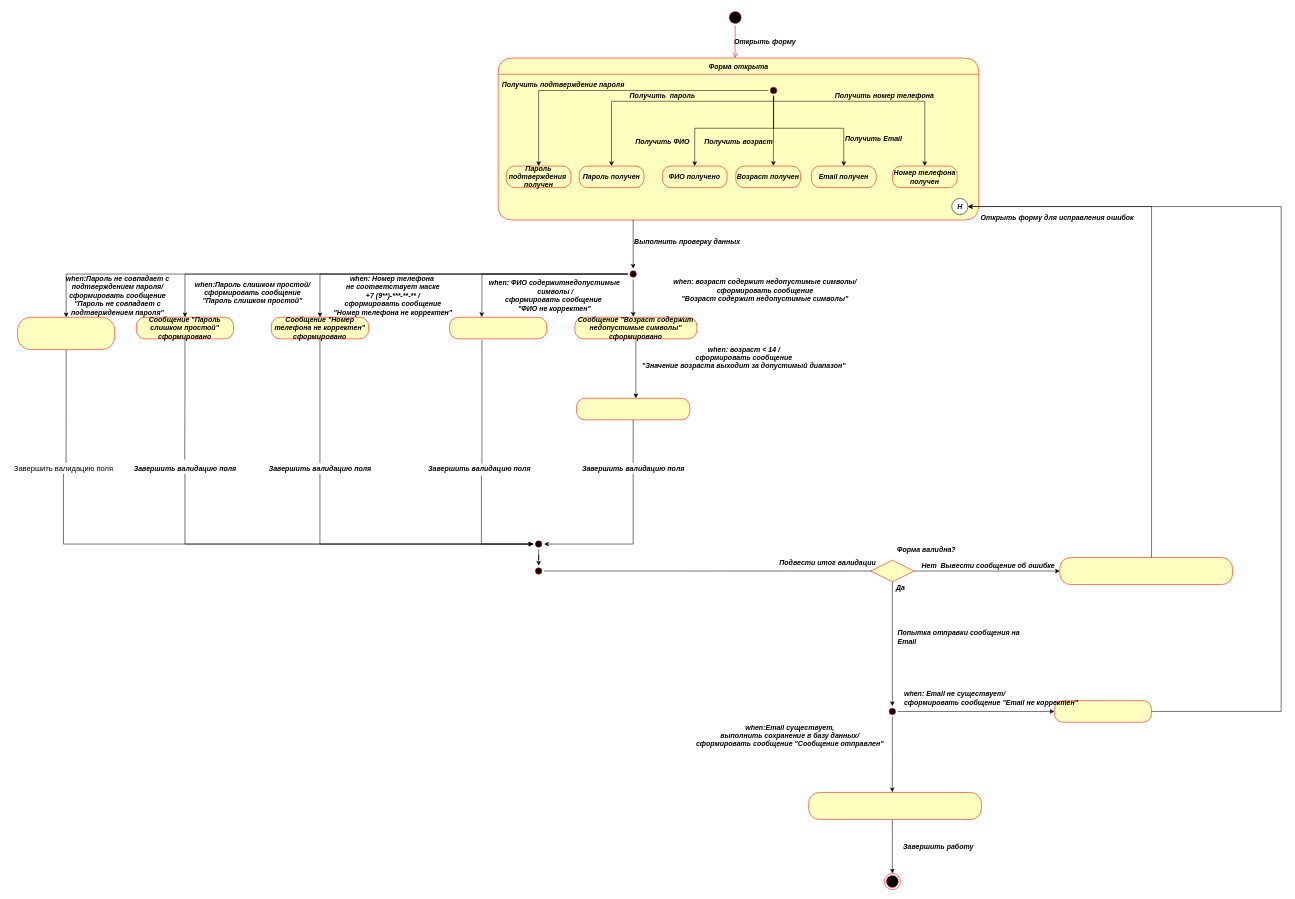
The diagram is 1295 pixels wide and 899 high, and some of its shapes have lost their labels. The shapes that lost their labels are listed below. From the top down, each one's centre as x and y in pixels, then its label:
point 66,333: Сообщение "Пароль не совпадает с подтверждением пароля" сформировано
point 498,328: Сообщение "ФИО не корректен" сформировано
point 633,409: Сообщение "Недопустимый возраст клиента" сформировано
point 1146,571: Сообщение об ошибке выведено
point 1103,711: Сообщение "Email не корректен" сформировано
point 894,805: Сохранение в базу данных выполнено
